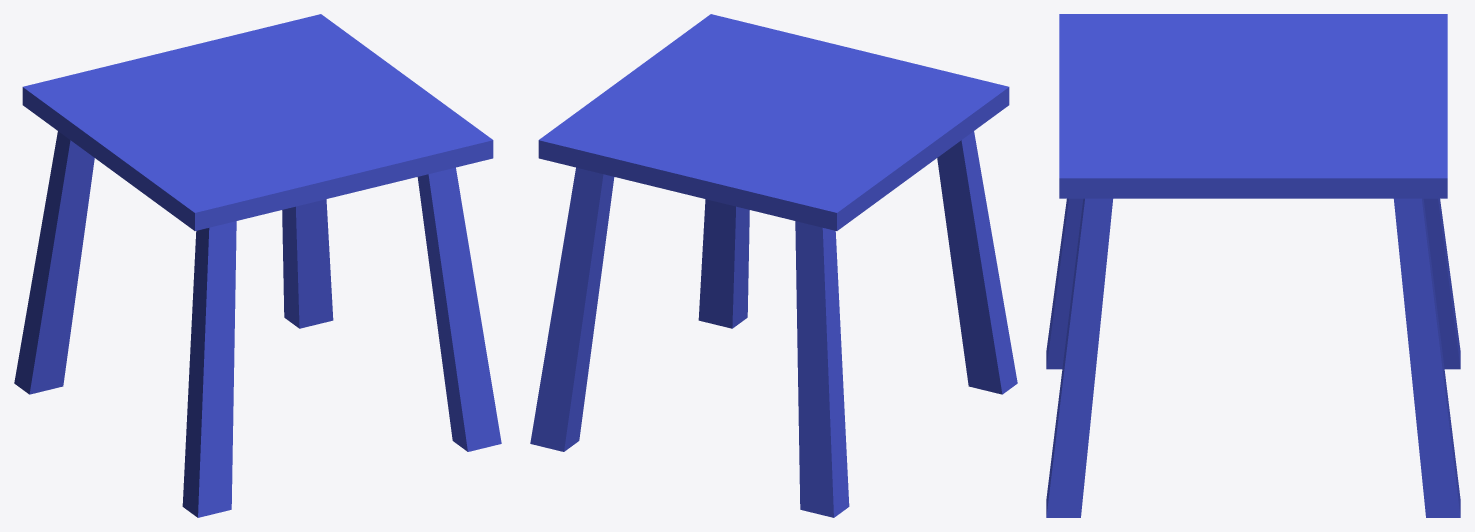
The model's file is squaretable.fbx.
The picture shows the model from 3 angles, left to right: view 1: azimuth 30°, elevation 25°; view 2: azimuth 150°, elevation 25°; view 3: azimuth 270°, elevation 25°; orthographic projection. The views are drawn at different scales.
Parts seen in each view (by area): view 1: Cube; view 2: Cube; view 3: Cube.
Part boxes in pixels (box(x1,y1,x2,y2)): Cube: box(14, 14, 501, 517); Cube: box(530, 14, 1017, 517); Cube: box(1046, 14, 1460, 517).
Bounding box in the file's own units: 551 × 520 × 577.
